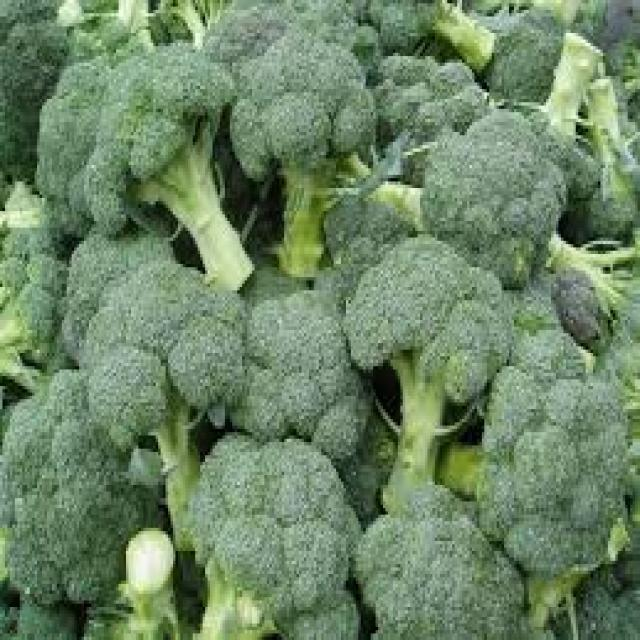broccoli: (50, 44, 321, 337), (92, 258, 258, 567), (0, 383, 181, 640), (348, 213, 502, 504), (185, 424, 382, 640), (474, 307, 640, 551), (338, 473, 574, 640), (306, 10, 509, 157), (412, 95, 566, 244), (0, 214, 91, 387)
